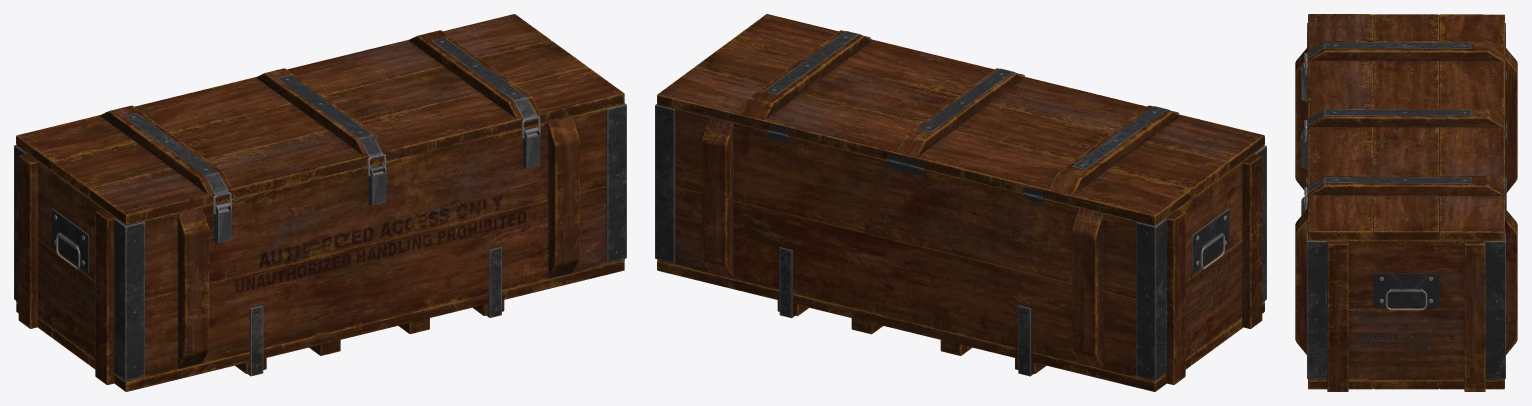
File: wooden-military-crate.glb
The picture shows the model from 3 angles, left to right: view 1: azimuth 30°, elevation 25°; view 2: azimuth 150°, elevation 25°; view 3: azimuth 270°, elevation 25°; orthographic projection. The views are drawn at different scales.
Parts seen in each view (by area): view 1: wooden_military_crate; view 2: wooden_military_crate; view 3: wooden_military_crate.
Part boxes in pixels (left/top/right/bottom): wooden_military_crate: left=14, top=14, right=626, bottom=391; wooden_military_crate: left=655, top=14, right=1266, bottom=391; wooden_military_crate: left=1295, top=14, right=1517, bottom=391.
Bounding box in the file's own units: 1.24 × 0.4648 × 0.5198.
1 material, 1 textured.
